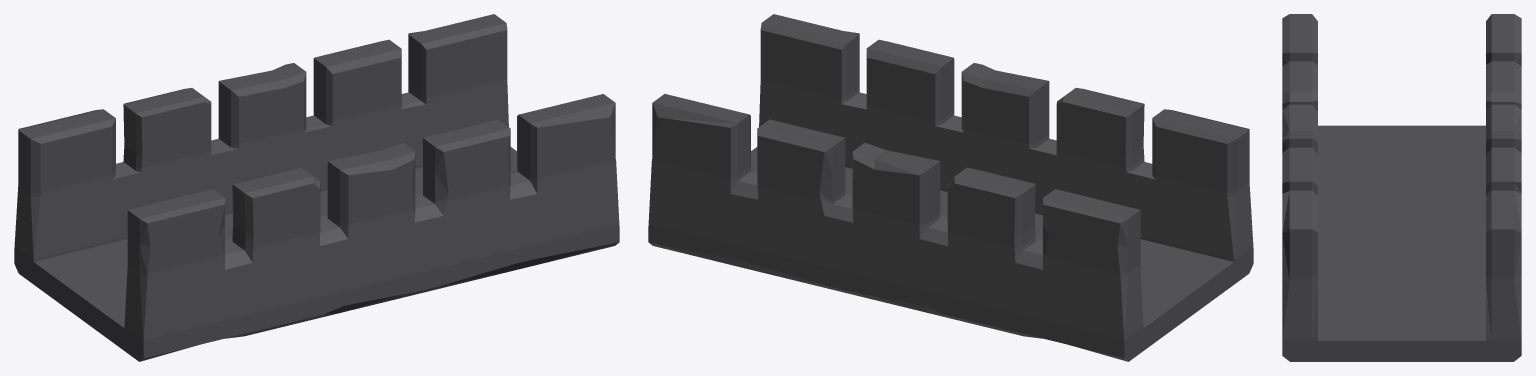
Rendered from SM_Bld_Castle_Tower_Wall_Top_01_Lite.gltf.
3 views of the same model, side by side, from view 1: azimuth 30°, elevation 25°; view 2: azimuth 150°, elevation 25°; view 3: azimuth 270°, elevation 25° (orthographic). The views are drawn at different scales.
Parts seen in each view (by area): view 1: SM_Bld_Castle_Tower_Wall_Top_01_Lite; view 2: SM_Bld_Castle_Tower_Wall_Top_01_Lite; view 3: SM_Bld_Castle_Tower_Wall_Top_01_Lite.
Part boxes in pixels (bbox=[...]): SM_Bld_Castle_Tower_Wall_Top_01_Lite: bbox=[14, 14, 619, 361]; SM_Bld_Castle_Tower_Wall_Top_01_Lite: bbox=[648, 14, 1253, 361]; SM_Bld_Castle_Tower_Wall_Top_01_Lite: bbox=[1282, 14, 1521, 361].
Bounding box in the file's own units: 5 × 1.44 × 2.35.
1 material, 1 textured.
